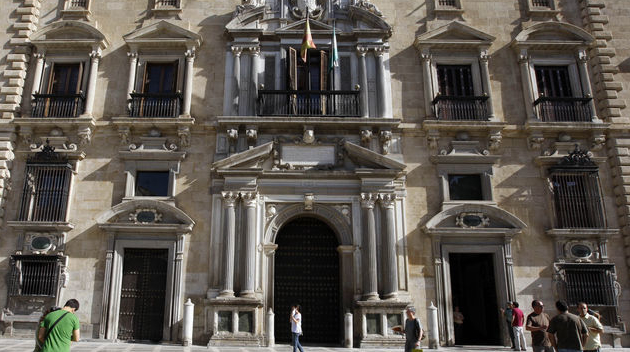arco-medio-punto: (260, 197, 356, 256)
fronton: (415, 19, 500, 50), (119, 17, 204, 46), (273, 17, 342, 40)
fronton-curvo: (419, 200, 530, 241), (96, 198, 197, 239), (511, 18, 599, 53), (27, 20, 109, 48)
fronton-partido: (208, 137, 411, 180), (223, 1, 395, 38)
vano-adintelado: (100, 236, 183, 347), (435, 241, 517, 352), (514, 53, 603, 130), (418, 51, 495, 129), (26, 46, 102, 123), (123, 45, 197, 120)
